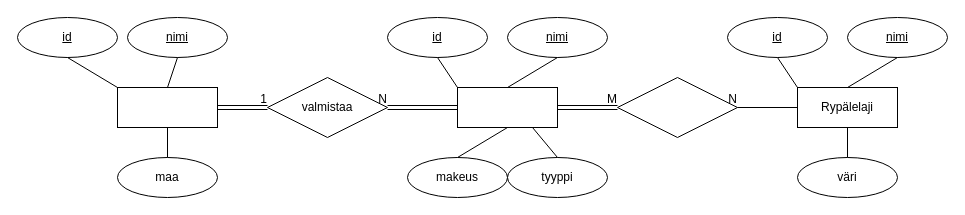
This 965x215 diagram has some shape labels left out. Each missing label, with the centre of its shape:
Sisältää: point (677, 107)
Viini: point (507, 107)
Viinitila: point (167, 107)
